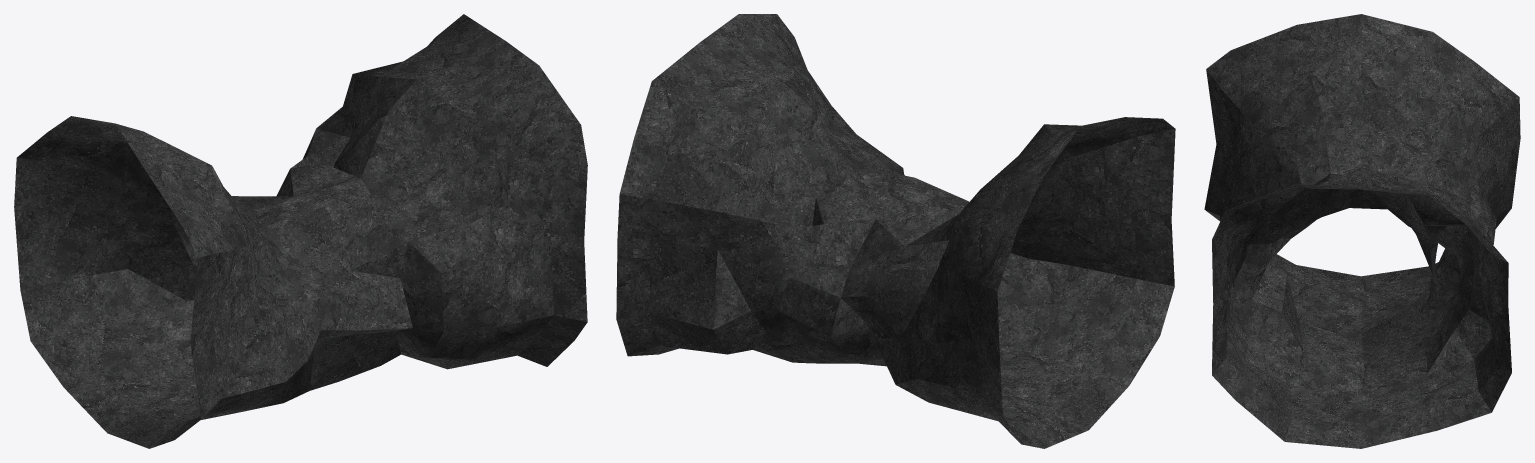
File: CaveHallwayCrawl.glb
3 renders of one model, left to right at view 1: azimuth 30°, elevation 25°; view 2: azimuth 150°, elevation 25°; view 3: azimuth 270°, elevation 25°, orthographic. The views are drawn at different scales.
Visible parts, largest first — view 1: Cube.130; view 2: Cube.130; view 3: Cube.130.
Part boxes in pixels (left/top/right/bottom): Cube.130: left=14, top=14, right=587, bottom=448; Cube.130: left=616, top=14, right=1175, bottom=448; Cube.130: left=1204, top=14, right=1520, bottom=448.
Bounding box in the file's own units: 9.57 × 7.11 × 7.5.
Materials: 1 (1 with a texture image).
